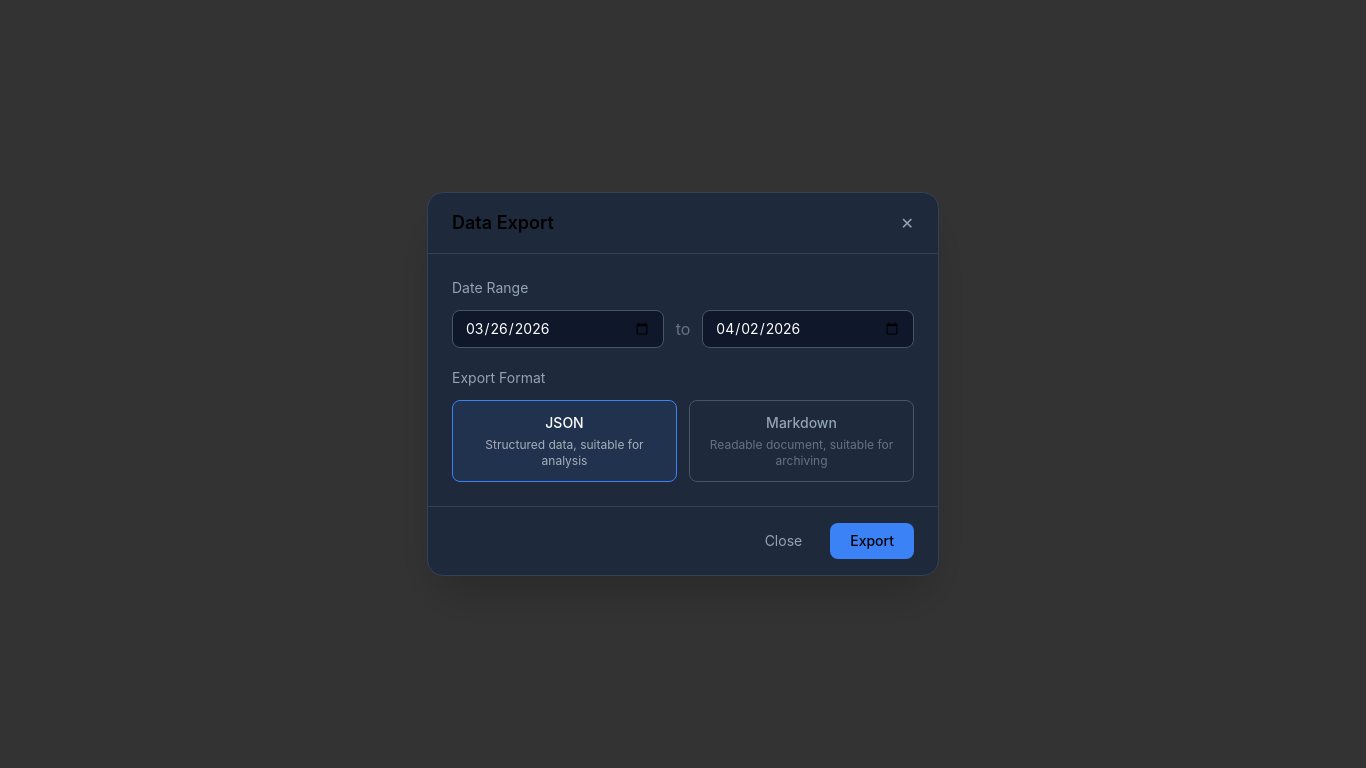
Test: ExportModal › displays export result on success
Step 1. Click the button "Export" → (872, 541), box [830, 523, 914, 559]
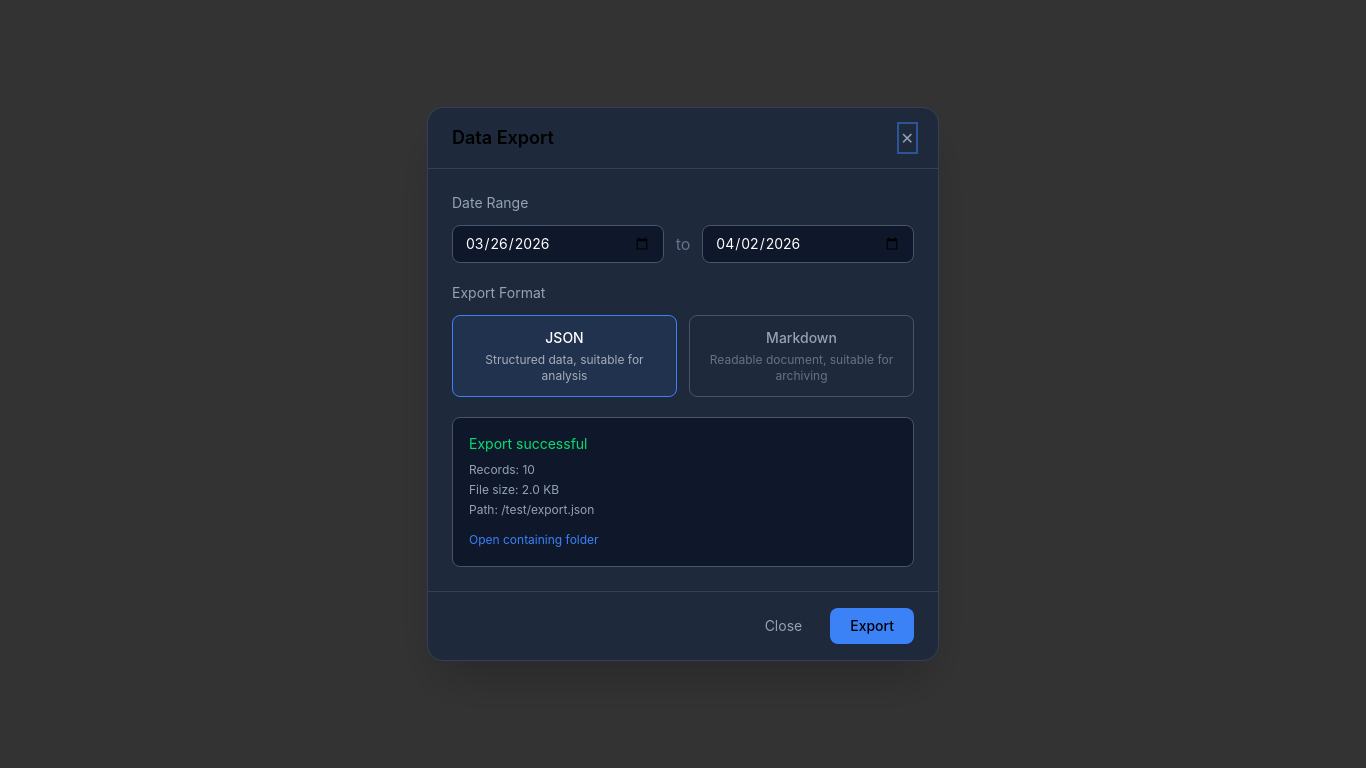
Check: the element showing "Export successful" is shown, box [469, 435, 588, 452]
